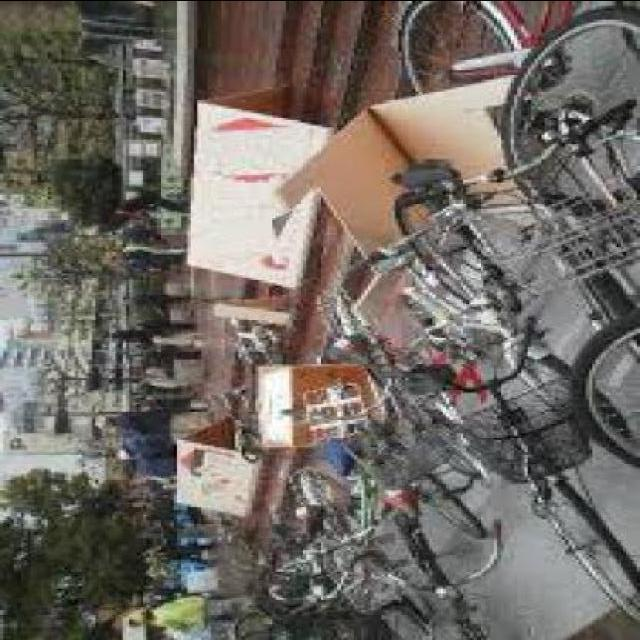bicycle: (386, 329, 634, 632)
